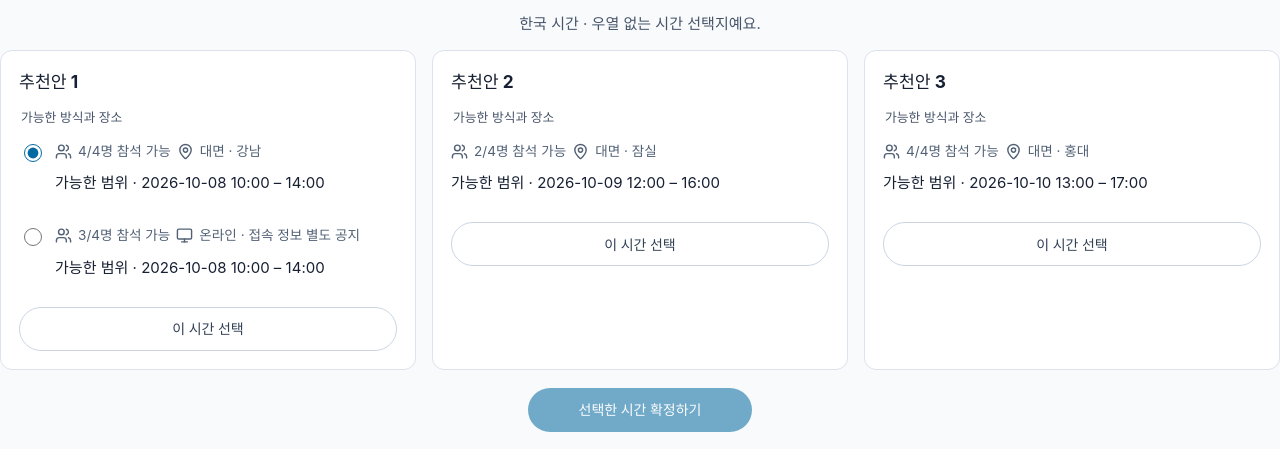
Test: #19 actual meeting selection › starts with two blank inputs and never confirms just by choosing a card
The width and height of the screenshot is (1280, 449).
Click the button "이 시간 선택" below "온라인 · 접속 정보 별도 공지".
click(208, 329)  # box x1=19 y1=307 x2=397 y2=351
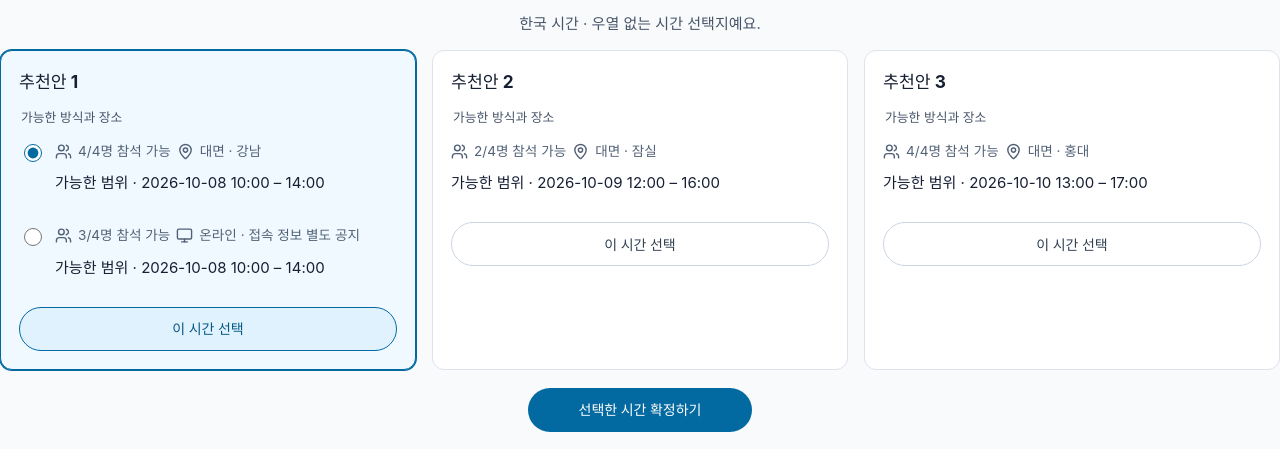
Click the button "선택한 시간 확정하기".
click(640, 410)  # box x1=528 y1=388 x2=752 y2=432
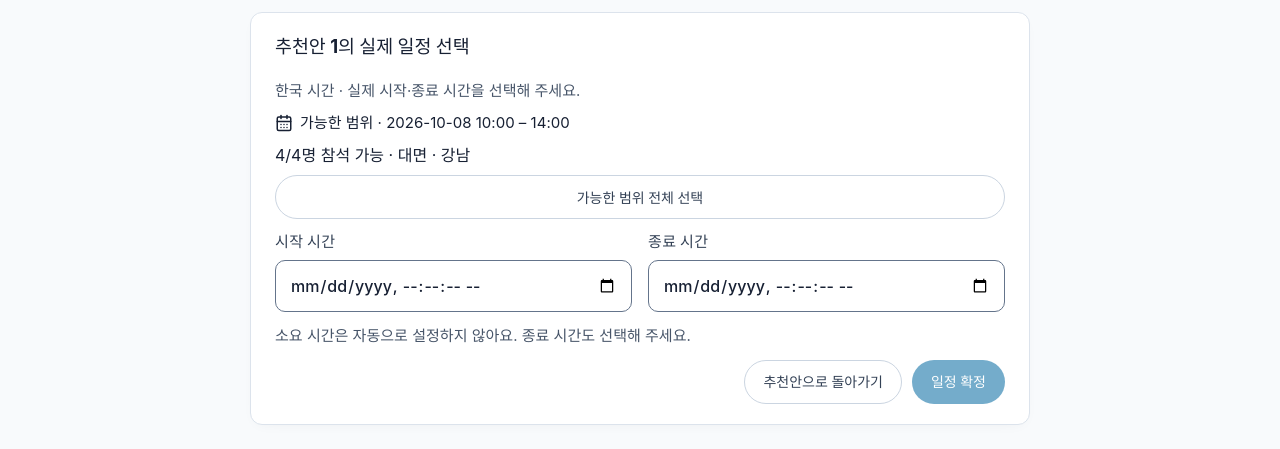
Now the field labelled "시작 시간" is empty, box x1=275 y1=260 x2=632 y2=312
Now the field labelled "종료 시간" is empty, box x1=648 y1=260 x2=1005 y2=312
Now the button "일정 확정" is disabled, box x1=912 y1=360 x2=1005 y2=404
